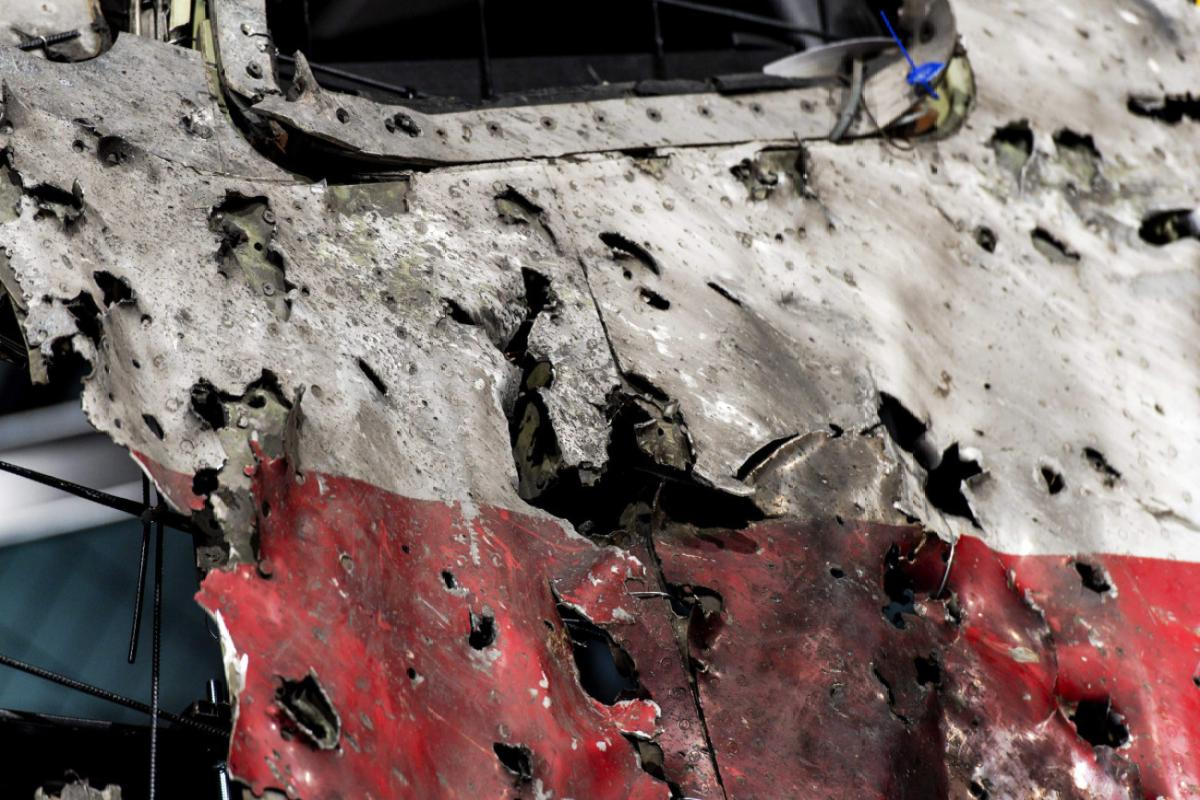Fuselage_damage: (432, 259, 846, 799), (24, 330, 314, 606), (533, 570, 690, 799), (851, 377, 997, 545), (199, 184, 306, 334), (866, 535, 979, 643), (49, 261, 148, 377), (730, 416, 849, 495), (0, 143, 90, 244), (264, 659, 352, 760), (1063, 681, 1154, 775), (320, 153, 429, 221), (721, 141, 823, 208), (56, 107, 146, 179), (979, 108, 1042, 210), (489, 176, 568, 255), (855, 648, 916, 731), (597, 220, 669, 285), (1048, 123, 1109, 195), (1117, 83, 1199, 135), (483, 732, 553, 792), (609, 134, 686, 185), (1130, 198, 1199, 253), (1059, 548, 1121, 606), (455, 601, 508, 664), (1026, 219, 1086, 271), (1034, 447, 1080, 508), (353, 345, 398, 406), (1077, 443, 1130, 494), (701, 272, 754, 316), (631, 281, 678, 319), (965, 218, 1008, 259), (436, 562, 462, 602)
